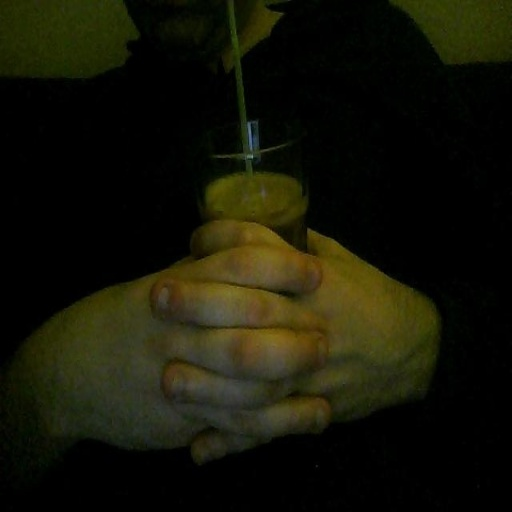hand: (147, 217, 429, 464), (34, 238, 332, 454)
